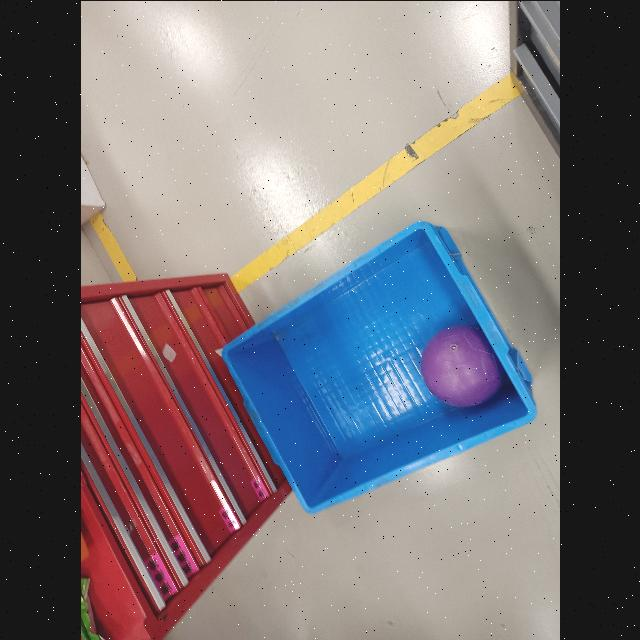P: (420, 324, 506, 406)
